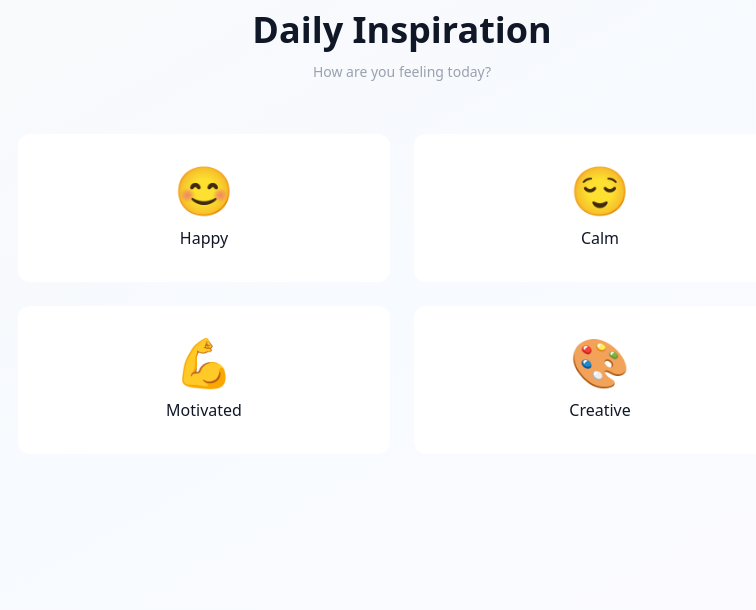
Test: App Integration with InspirationCard › should display loading state in InspirationCard during content generation
The width and height of the screenshot is (756, 610).
Expected: the text "How are you feeling today?" is shown, [313,62,491,81]
# Click the happy mood button
Click the button "😊 Happy" at (204, 208), box [18,134,390,282]
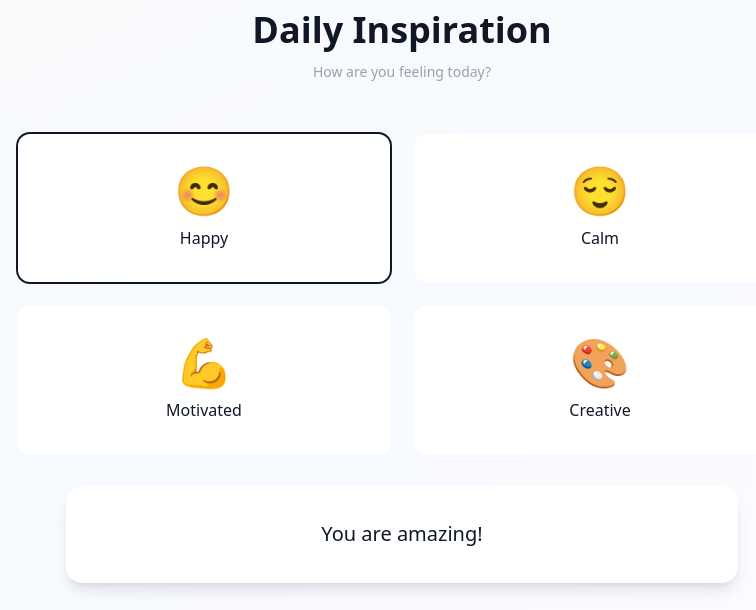
Expected: the element with class "animate-pulse" is shown, [66,486,738,582]
